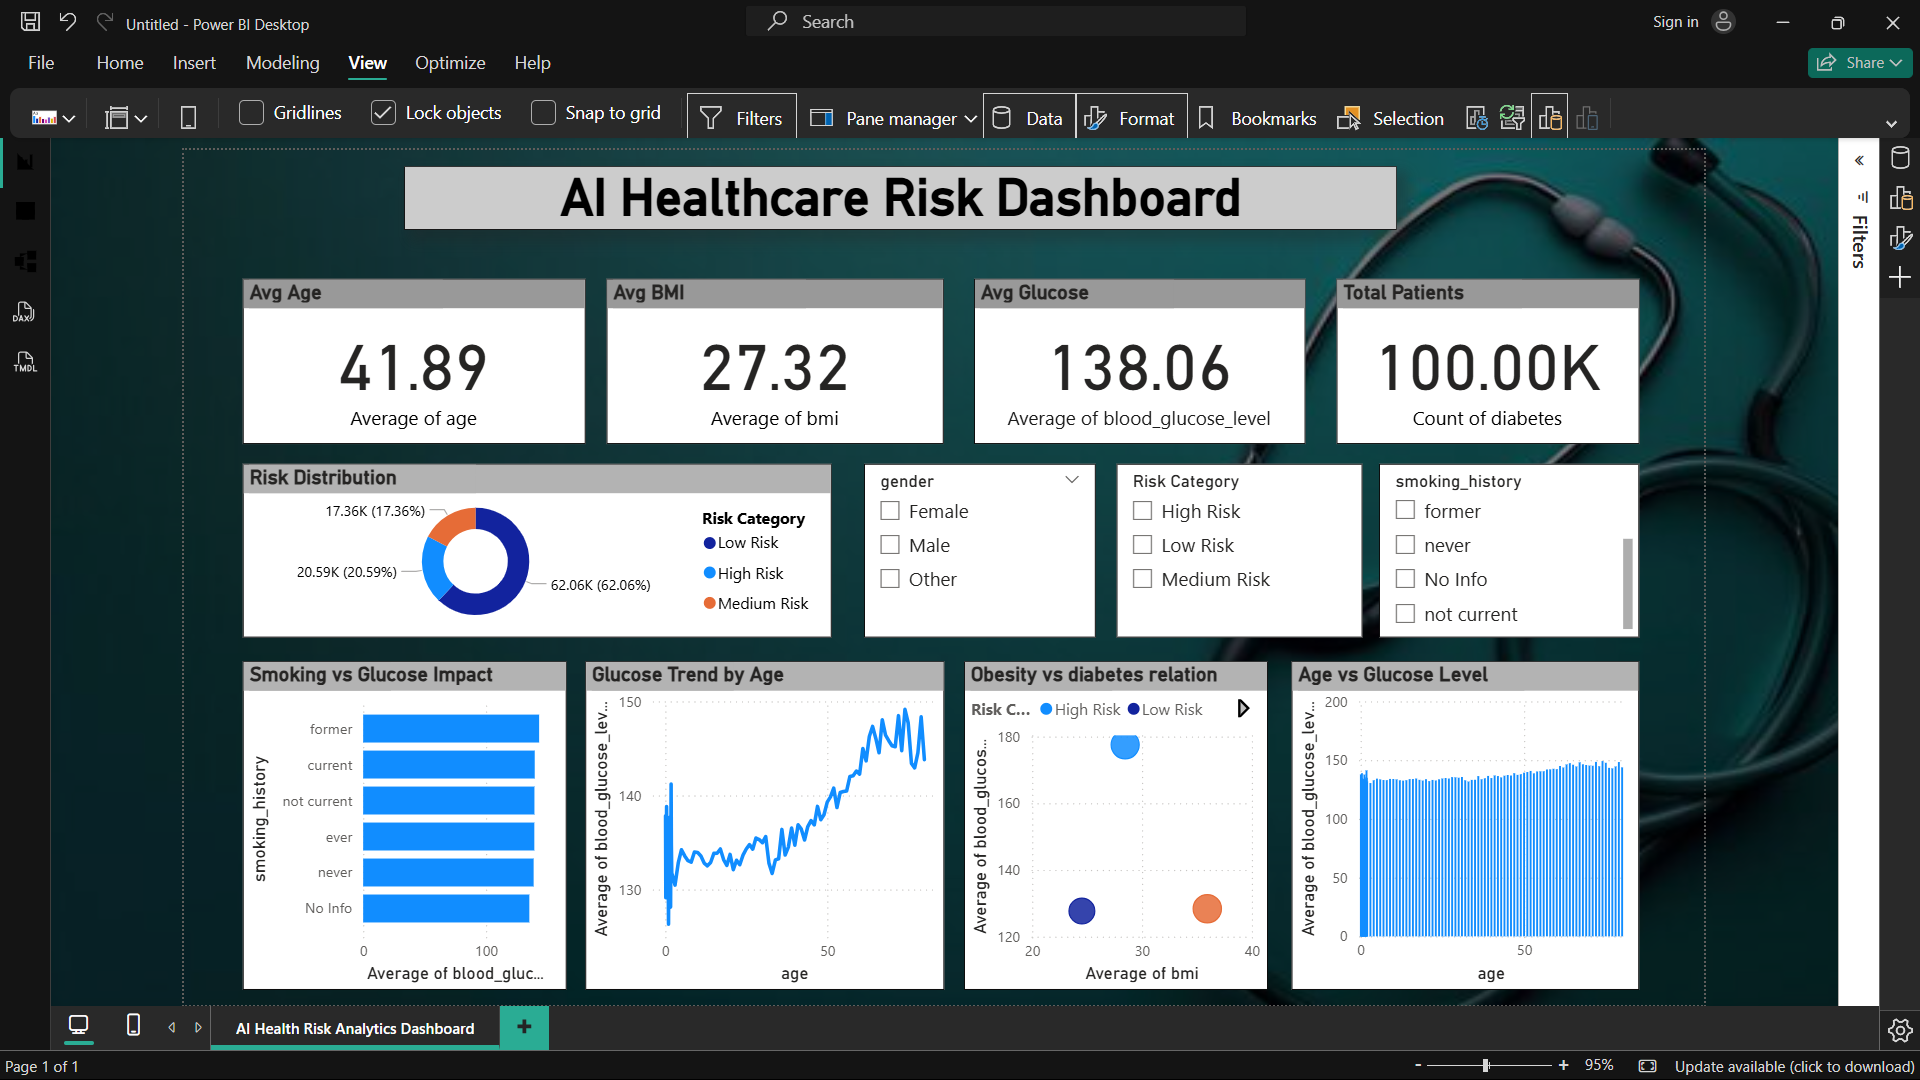

The dashboard page shown, as its layout file describes it:
{"tool":"powerbi","page":{"name":"AI Health Risk Analytics Dashboard","canvas":[1280,720],"ordinal":0},"visuals":[{"type":"textbox","title":"AI Healthcare Risk Dashboard","box":[185.3,13.7,835.8,53.7],"z":0},{"type":"card","title":"Avg Glucose","fields":{"Values":["Avg(diabetes_prediction_dataset.blood_glucose_level)"]},"box":[665.3,108.4,278.9,138.9],"z":1},{"type":"card","title":"Avg BMI","fields":{"Values":["Avg(diabetes_prediction_dataset.bmi)"]},"box":[355.8,108.4,284.2,138.9],"z":2},{"type":"card","title":"Avg Age","fields":{"Values":["Avg(diabetes_prediction_dataset.age)"]},"box":[49.5,108.4,288.4,138.9],"z":3},{"type":"card","title":"Total Patients","fields":{"Values":["CountNonNull(diabetes_prediction_dataset.diabetes)"]},"box":[970,108,255,139],"z":4},{"type":"donutChart","title":"Risk Distribution","fields":{"Category":["diabetes_prediction_dataset.Risk Category"],"Y":["CountNonNull(diabetes_prediction_dataset.diabetes)"]},"box":[49,264,496,146],"z":5},{"type":"clusteredColumnChart","title":"Age vs Glucose Level","fields":{"Category":["diabetes_prediction_dataset.age"],"Y":["Avg(diabetes_prediction_dataset.blood_glucose_level)"]},"box":[932.6,430.5,292.6,276.8],"z":6},{"type":"scatterChart","title":"Obesity vs diabetes relation","fields":{"X":["Avg(diabetes_prediction_dataset.bmi)"],"Y":["Avg(diabetes_prediction_dataset.blood_glucose_level)"],"Size":["Avg(diabetes_prediction_dataset.age)"],"Series":["diabetes_prediction_dataset.Risk Category"]},"box":[656.8,430.5,255.8,276.8],"z":7},{"type":"lineChart","title":"Glucose Trend by Age","fields":{"Category":["diabetes_prediction_dataset.age"],"Y":["Avg(diabetes_prediction_dataset.blood_glucose_level)"]},"box":[338,431,302,277],"z":8},{"type":"clusteredBarChart","title":"Smoking vs Glucose Impact","fields":{"Category":["diabetes_prediction_dataset.smoking_history"],"Y":["Avg(diabetes_prediction_dataset.blood_glucose_level)"]},"box":[49,431,273,277],"z":9},{"type":"slicer","fields":{"Values":["diabetes_prediction_dataset.gender"]},"box":[573,264,195,146],"z":10},{"type":"slicer","fields":{"Values":["diabetes_prediction_dataset.Risk Category"]},"box":[785,264,207,146],"z":11},{"type":"slicer","fields":{"Values":["diabetes_prediction_dataset.smoking_history"]},"box":[1006,264,219,146],"z":12}]}

Visuals, with their boxes on the page's 1280x720 design canvas (x1, y1, x2, y2). These are canvas units, not pixel positions in the 1920x1080 screenshot, which may show the page scaled, cropped or inside an application window:
"AI Healthcare Risk Dashboard" textbox: (185, 14, 1021, 67)
"Avg Glucose" card: (665, 108, 944, 247)
"Avg BMI" card: (356, 108, 640, 247)
"Avg Age" card: (50, 108, 338, 247)
"Total Patients" card: (970, 108, 1225, 247)
"Risk Distribution" donutChart: (49, 264, 545, 410)
"Age vs Glucose Level" clusteredColumnChart: (933, 430, 1225, 707)
"Obesity vs diabetes relation" scatterChart: (657, 430, 913, 707)
"Glucose Trend by Age" lineChart: (338, 431, 640, 708)
"Smoking vs Glucose Impact" clusteredBarChart: (49, 431, 322, 708)
slicer - diabetes_prediction_dataset.gender: (573, 264, 768, 410)
slicer - diabetes_prediction_dataset.Risk Category: (785, 264, 992, 410)
slicer - diabetes_prediction_dataset.smoking_history: (1006, 264, 1225, 410)
